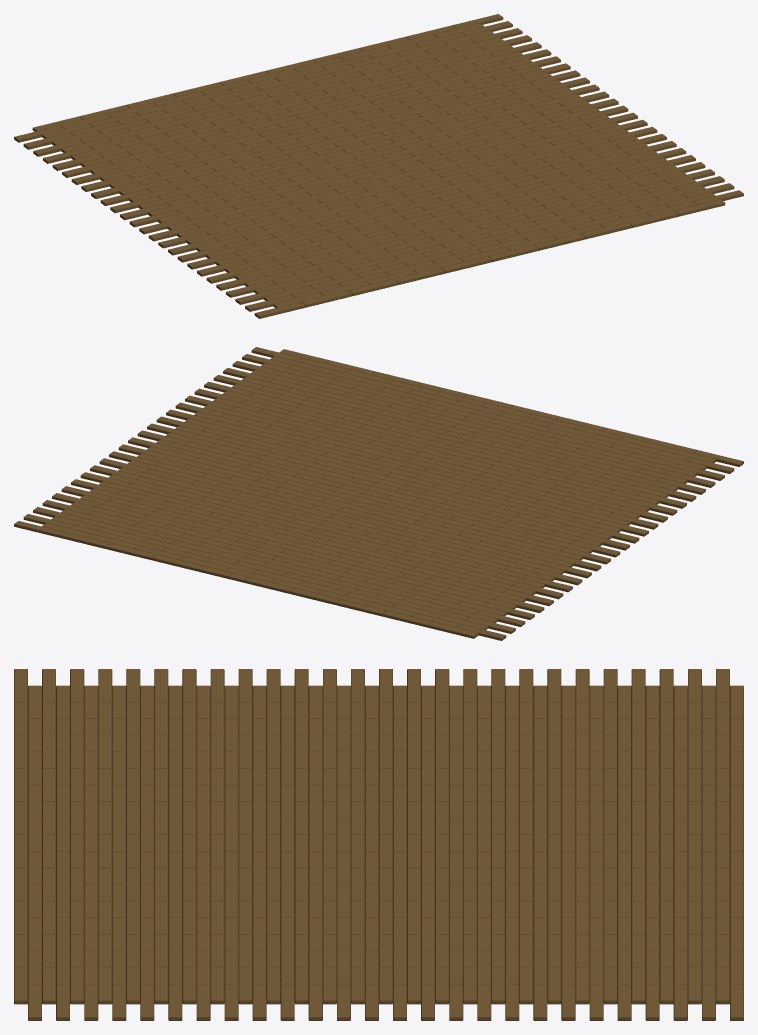
The model's file is Plancher.fbx.
The picture shows the model from 3 angles, top to bottom: view 1: azimuth 30°, elevation 25°; view 2: azimuth 150°, elevation 25°; view 3: azimuth 270°, elevation 25°; orthographic projection. The views are drawn at different scales.
Visible parts, largest first — view 1: Plancher; view 2: Plancher; view 3: Plancher.
Part boxes in pixels (x1,y1,x2,y2): Plancher: (14, 14, 743, 318); Plancher: (14, 347, 743, 640); Plancher: (14, 669, 743, 1020).
Bounding box in the file's own units: 2100 × 11.31 × 1860.
